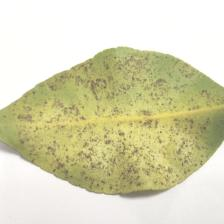canker: (36, 61, 198, 178)
